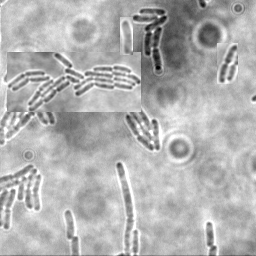Dividing: (114, 161, 133, 255), (217, 43, 238, 84), (204, 221, 215, 248)
Microcolony: (7, 52, 141, 112), (1, 162, 44, 231), (130, 8, 167, 72), (124, 106, 160, 153), (120, 17, 133, 55), (63, 208, 74, 240)
